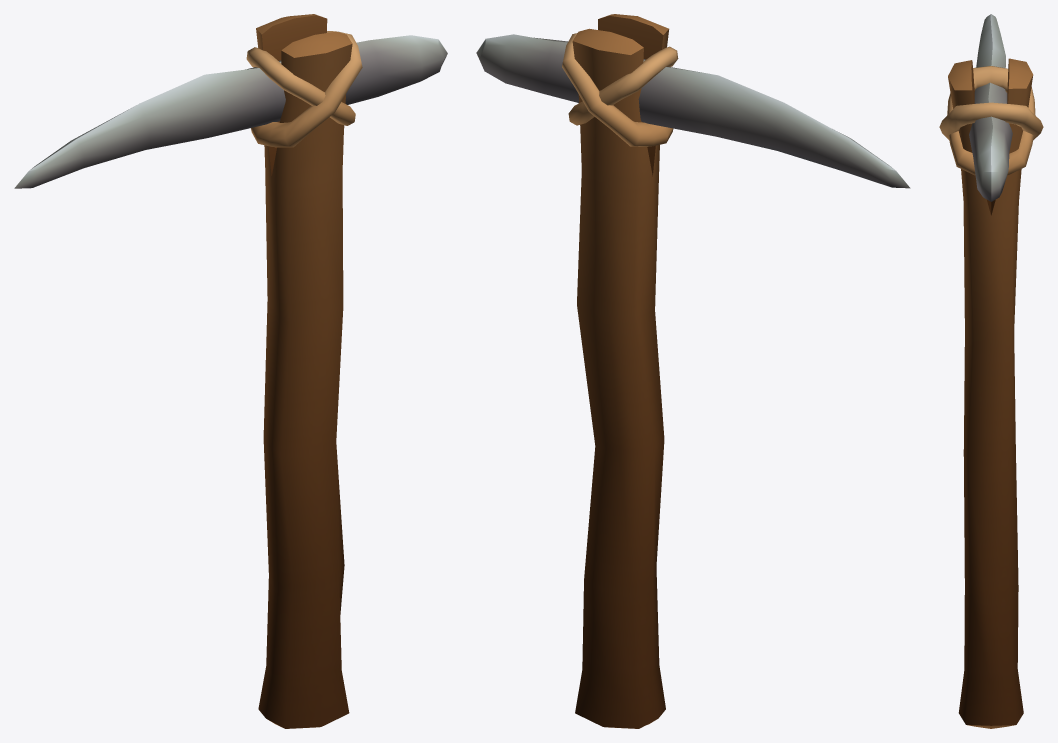
The model's file is Pickaxe_01.glb.
3 renders of one model, left to right at view 1: azimuth 30°, elevation 25°; view 2: azimuth 150°, elevation 25°; view 3: azimuth 270°, elevation 25°, orthographic. The views are drawn at different scales.
Visible parts, largest first — view 1: Pickaxe_01; view 2: Pickaxe_01; view 3: Pickaxe_01.
Part boxes in pixels (bbox=[...]): Pickaxe_01: bbox=[14, 14, 447, 728]; Pickaxe_01: bbox=[476, 14, 910, 728]; Pickaxe_01: bbox=[939, 14, 1043, 728].
Bounding box in the file's own units: 0.6727 × 1.03 × 0.1489.
Materials: 1 (1 with a texture image).
